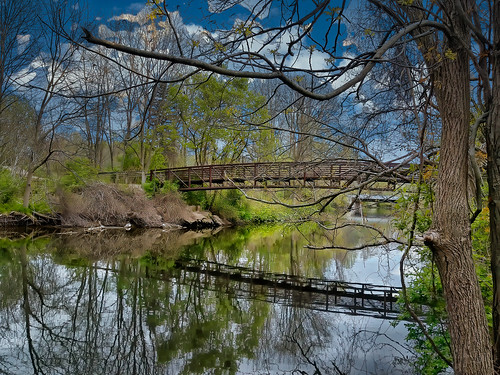bridge: (124, 147, 451, 212)
river: (8, 208, 428, 370)
tree: (386, 9, 500, 375), (72, 30, 168, 204), (158, 69, 271, 210), (1, 1, 76, 199), (271, 84, 351, 216)
